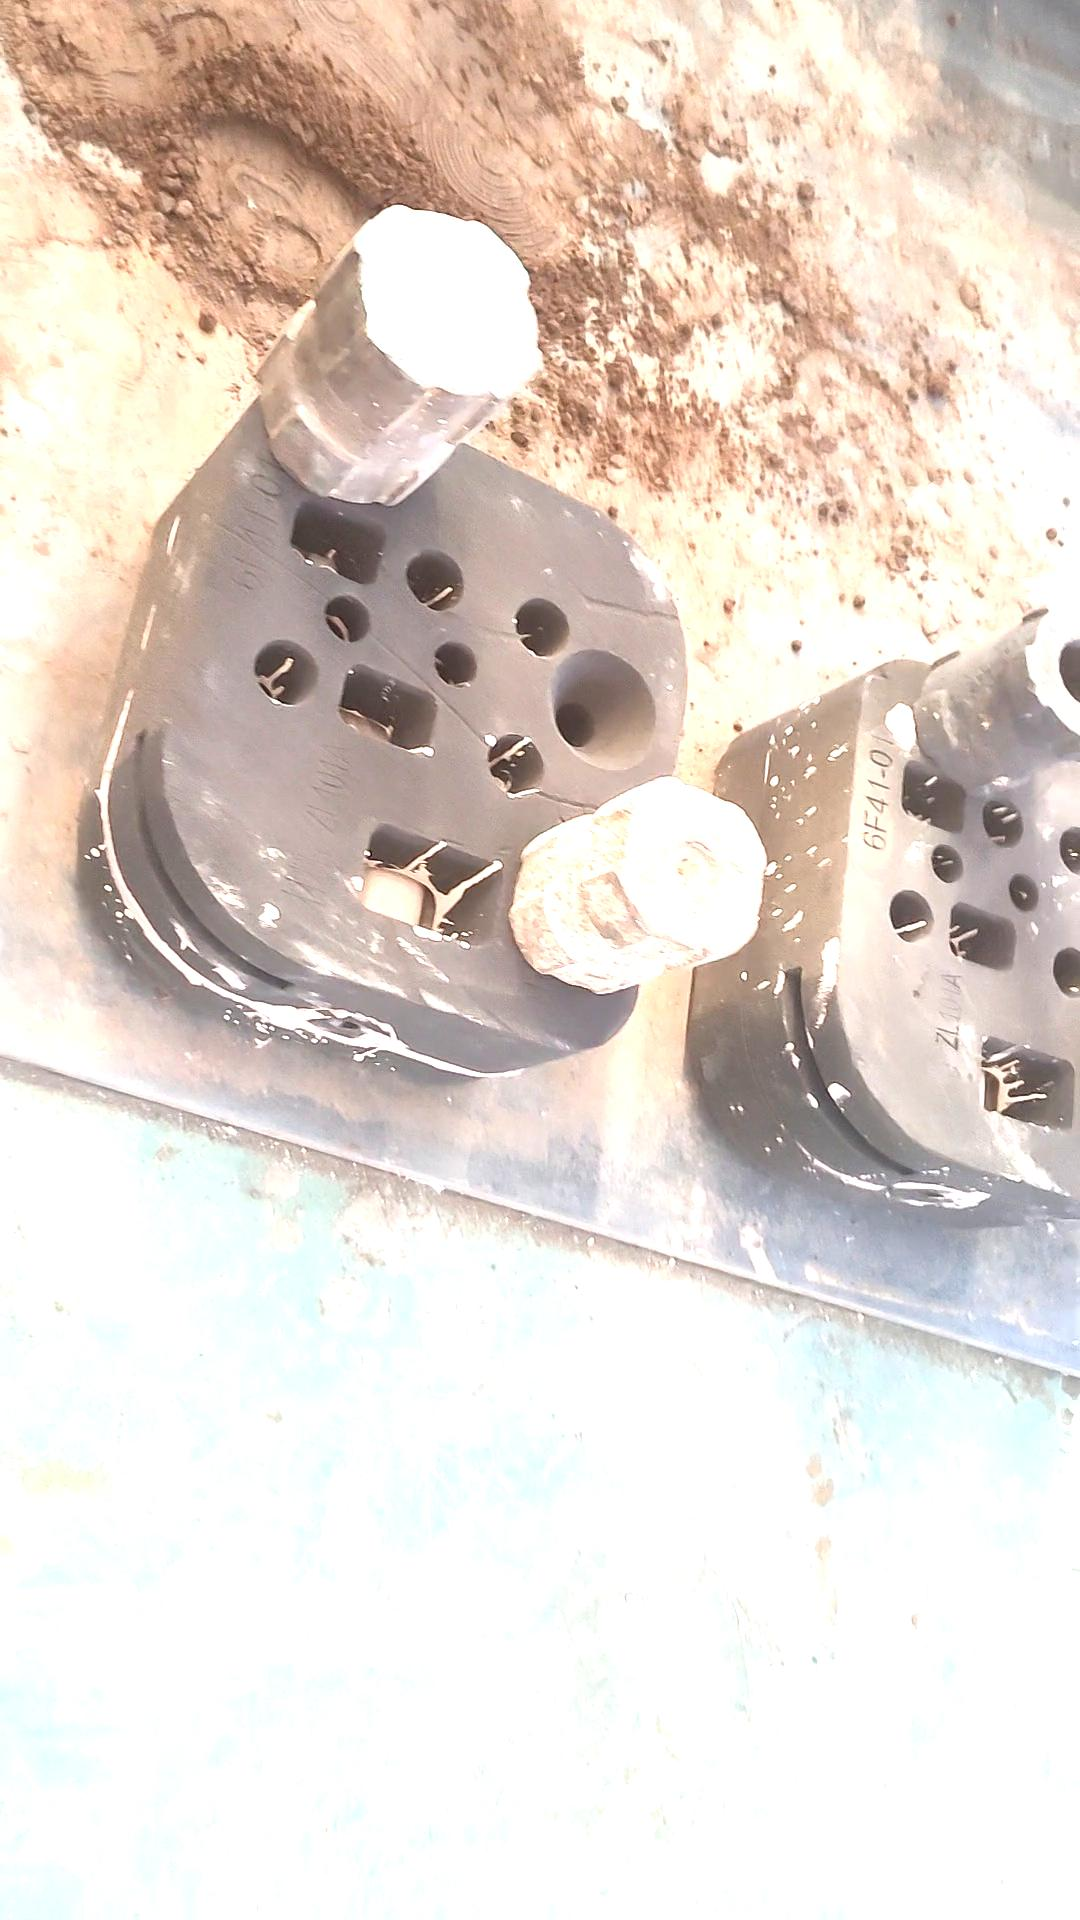pouring hole: (546, 649, 659, 771)
